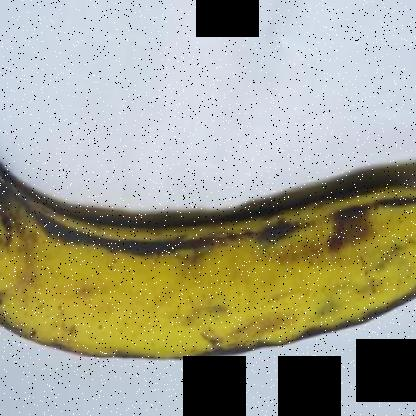ripe: (1, 152, 415, 377)
